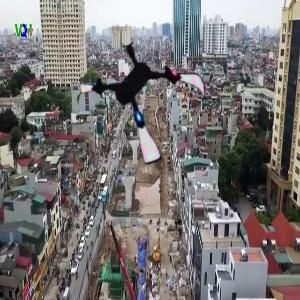drone: (77, 35, 211, 169)
